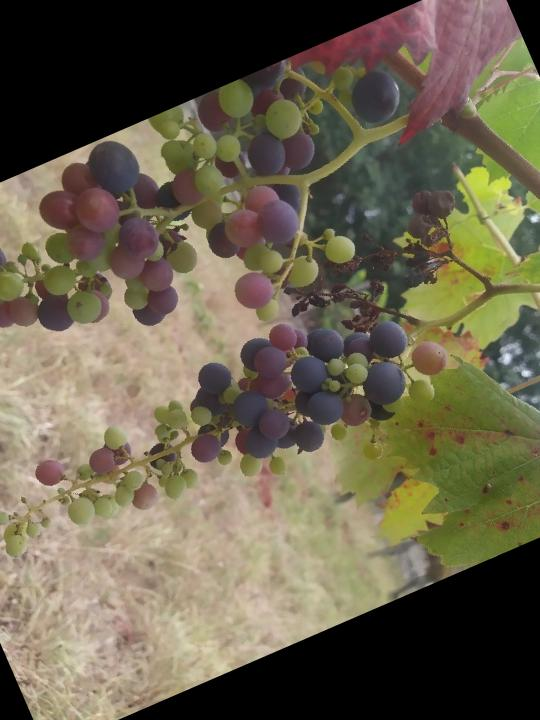grape: (0, 21, 467, 427), (0, 269, 473, 607), (264, 178, 490, 357)
